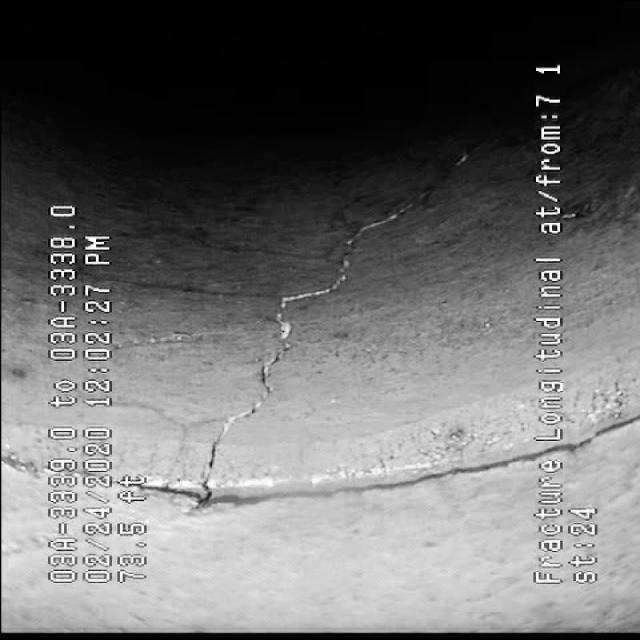Fracture: (188, 190, 416, 440)
